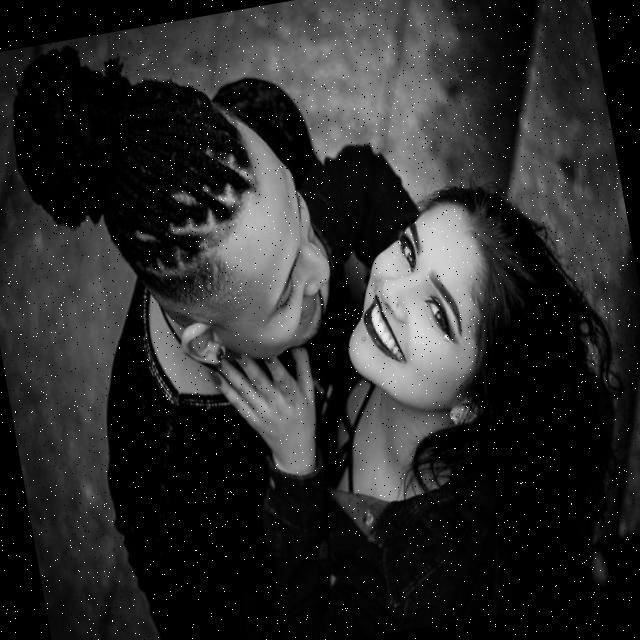Happiness: (321, 192, 511, 426)
